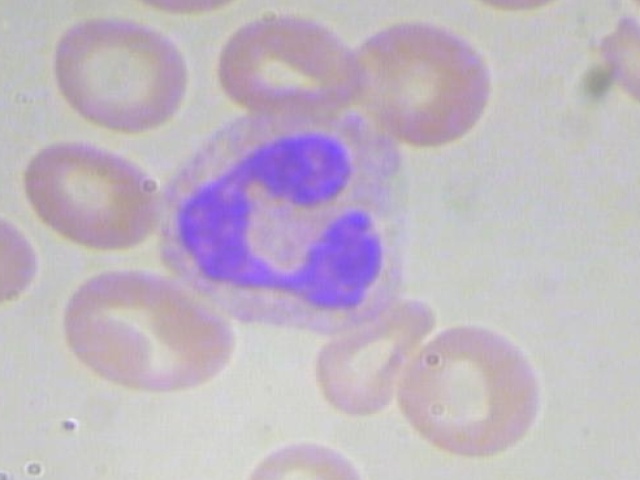RBC: (61, 262, 237, 403), (395, 317, 555, 458), (338, 19, 510, 147), (40, 14, 201, 136), (14, 132, 175, 254), (295, 296, 440, 417), (211, 0, 360, 114), (237, 432, 384, 480), (579, 11, 640, 104), (0, 206, 36, 306)
WBC: (151, 99, 449, 327)
